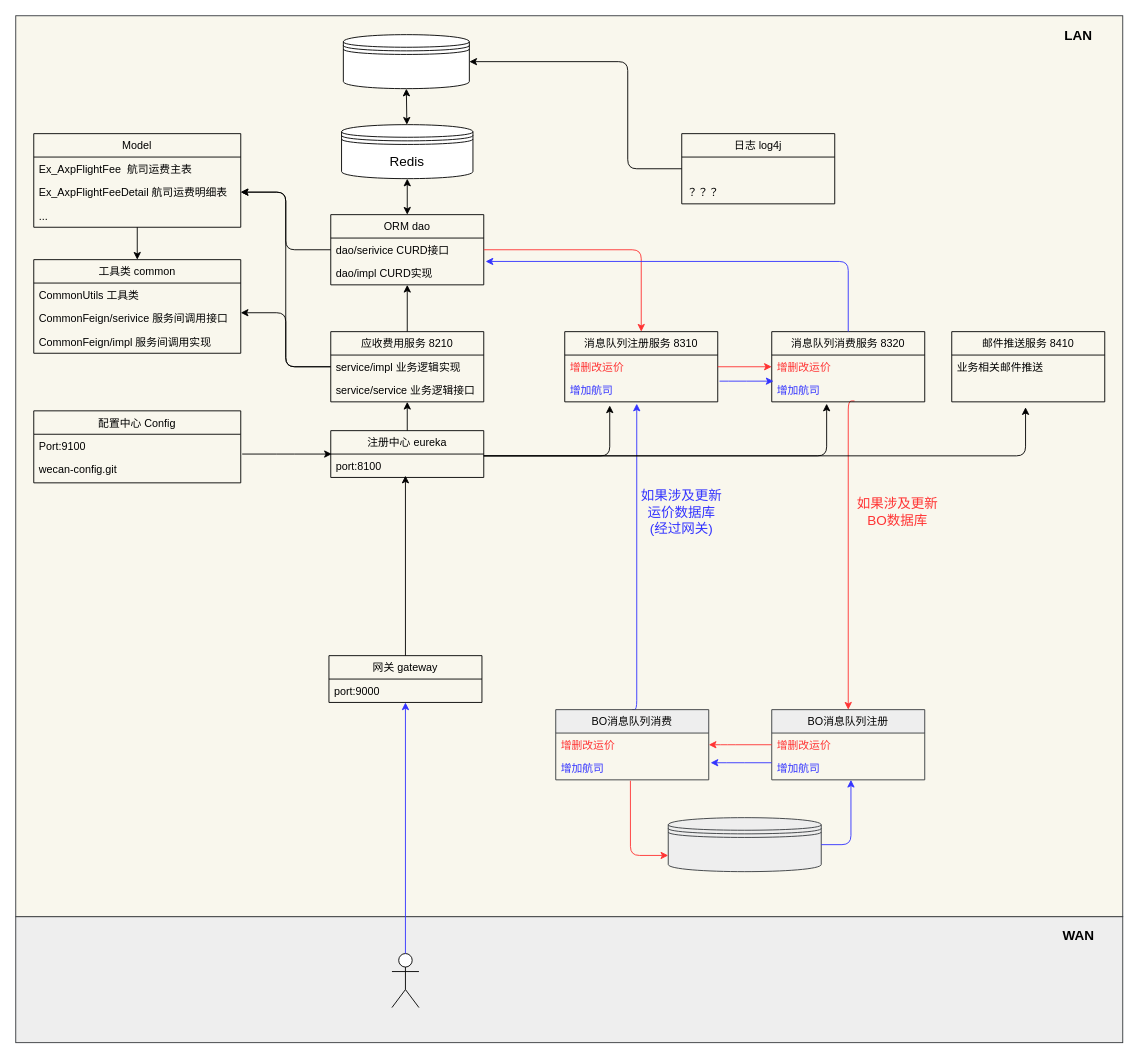
Some shapes in this 1139 by 1058 pixel diagram are drawn without their labels. Here are the shapes that lost their labels. From the top down, the centre of each, then its label:
At [405,61]: "Mysql".
At [744,844]: "BO数据库".
At [405,980]: "Actor".
